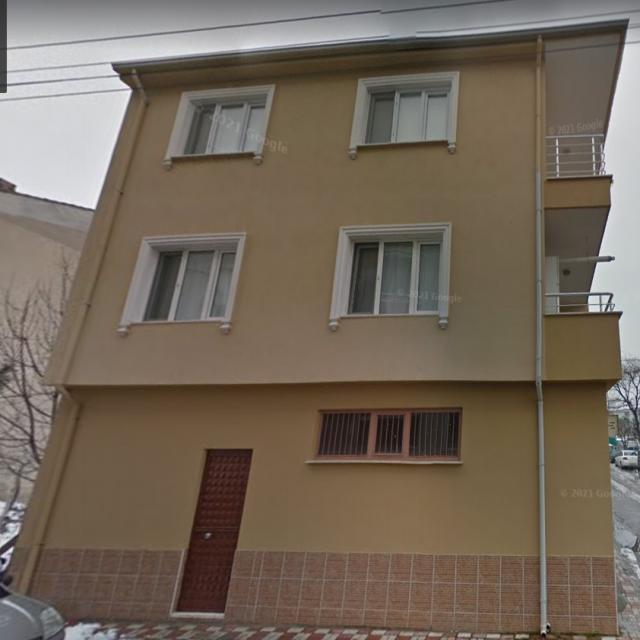Building: (4, 19, 629, 638)
